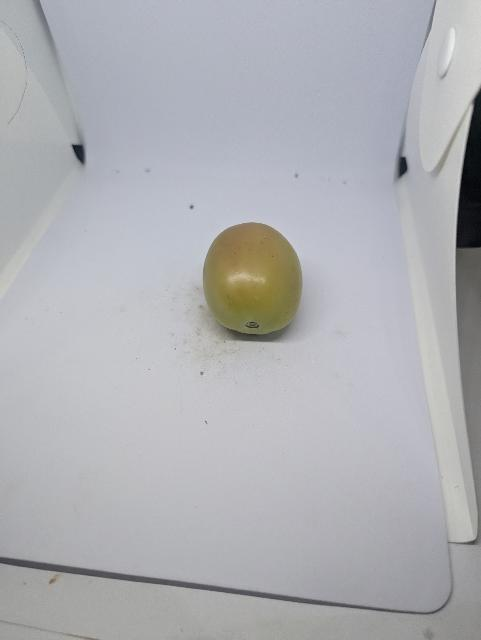breaker: (200, 221, 308, 341)
